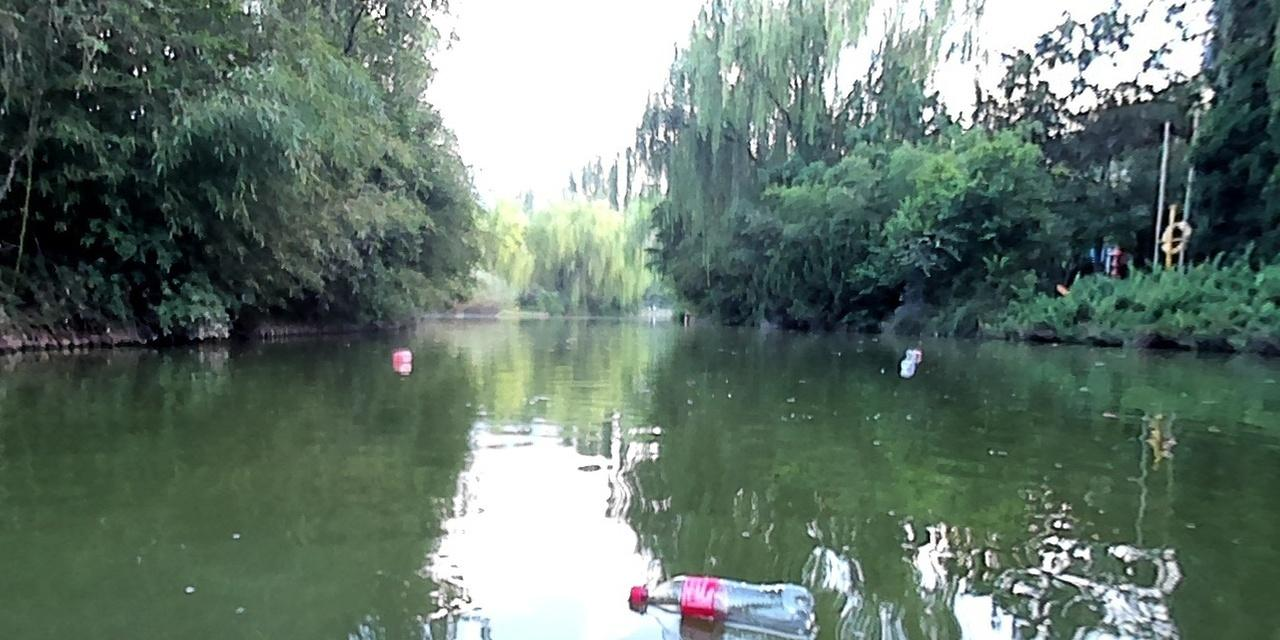bottle: (629, 573, 813, 633), (388, 348, 409, 362)
